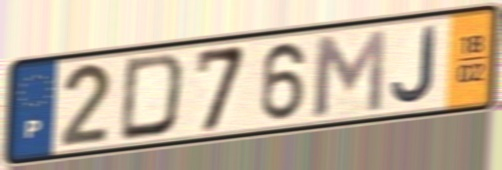2: (58, 59, 117, 151)
6: (259, 38, 309, 124)
7: (193, 43, 247, 135)
D: (116, 50, 189, 144)
J: (389, 23, 439, 106)
M: (311, 26, 389, 120)
